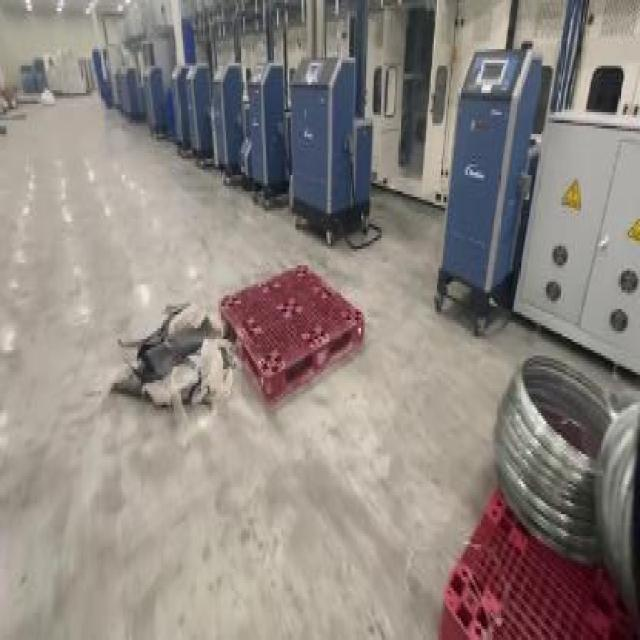box: (422, 375, 638, 637), (217, 252, 366, 413)
